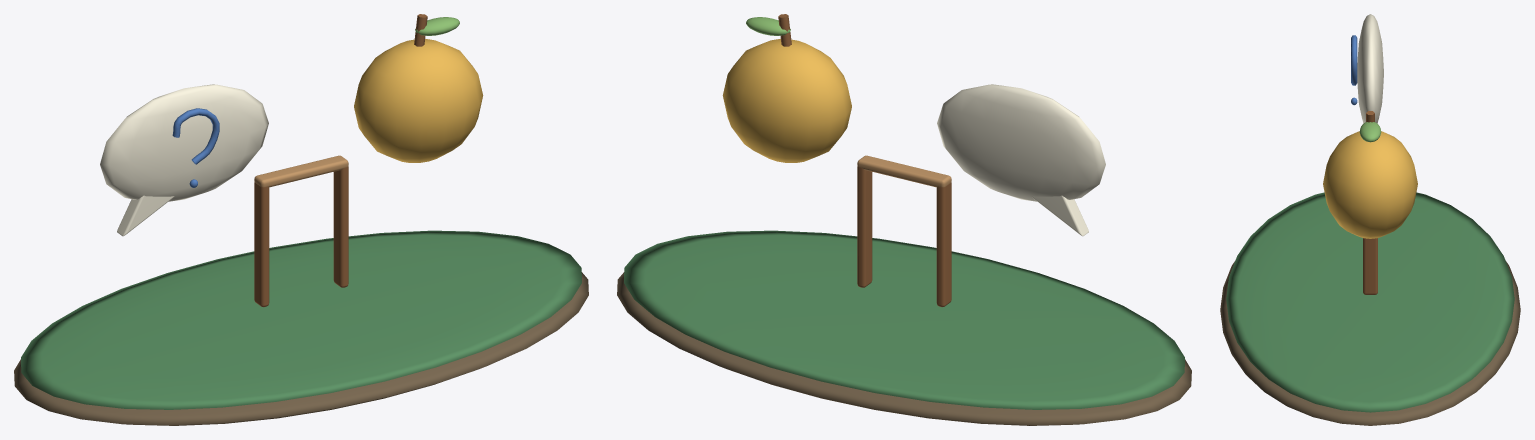
The model's file is complete-first-if-fruit-choice.glb.
3 views of the same model, side by side, from view 1: azimuth 30°, elevation 25°; view 2: azimuth 150°, elevation 25°; view 3: azimuth 270°, elevation 25° (orthographic). The views are drawn at different scales.
Parts seen in each view (by area): view 1: complete-first-if-fruit-choice_surface_01, complete-first-if-fruit-choice_surface_02, complete-first-if-fruit-choice_surface_04, complete-first-if-fruit-choice_surface_00, complete-first-if-fruit-choice_surface_05, complete-first-if-fruit-choice_surface_07, complete-first-if-fruit-choice_surface_03, complete-first-if-fruit-choice_surface_06; view 2: complete-first-if-fruit-choice_surface_01, complete-first-if-fruit-choice_surface_02, complete-first-if-fruit-choice_surface_04, complete-first-if-fruit-choice_surface_00, complete-first-if-fruit-choice_surface_05, complete-first-if-fruit-choice_surface_07, complete-first-if-fruit-choice_surface_06; view 3: complete-first-if-fruit-choice_surface_01, complete-first-if-fruit-choice_surface_04, complete-first-if-fruit-choice_surface_00, complete-first-if-fruit-choice_surface_02, complete-first-if-fruit-choice_surface_05, complete-first-if-fruit-choice_surface_03, complete-first-if-fruit-choice_surface_06.
Boxes of the visible parts, x1,y1,x2,y2 form: complete-first-if-fruit-choice_surface_01: (21,230,581,409); complete-first-if-fruit-choice_surface_02: (100,84,268,236); complete-first-if-fruit-choice_surface_04: (354,39,483,162); complete-first-if-fruit-choice_surface_00: (14,272,588,425); complete-first-if-fruit-choice_surface_05: (254,14,427,307); complete-first-if-fruit-choice_surface_07: (254,155,348,187); complete-first-if-fruit-choice_surface_03: (172,108,219,187); complete-first-if-fruit-choice_surface_06: (415,17,459,35); complete-first-if-fruit-choice_surface_01: (624,230,1184,409); complete-first-if-fruit-choice_surface_02: (937,84,1105,236); complete-first-if-fruit-choice_surface_04: (722,39,851,162); complete-first-if-fruit-choice_surface_00: (617,272,1191,425); complete-first-if-fruit-choice_surface_05: (778,14,951,307); complete-first-if-fruit-choice_surface_07: (857,155,951,187); complete-first-if-fruit-choice_surface_06: (746,17,790,35); complete-first-if-fruit-choice_surface_01: (1226,192,1514,412); complete-first-if-fruit-choice_surface_04: (1323,131,1417,238); complete-first-if-fruit-choice_surface_00: (1220,261,1520,425); complete-first-if-fruit-choice_surface_02: (1357,14,1383,123); complete-first-if-fruit-choice_surface_05: (1363,111,1377,294); complete-first-if-fruit-choice_surface_03: (1351,35,1357,105); complete-first-if-fruit-choice_surface_06: (1359,122,1381,142).
Size of the model in its own units: 4.56 by 2.41 by 2.5.
